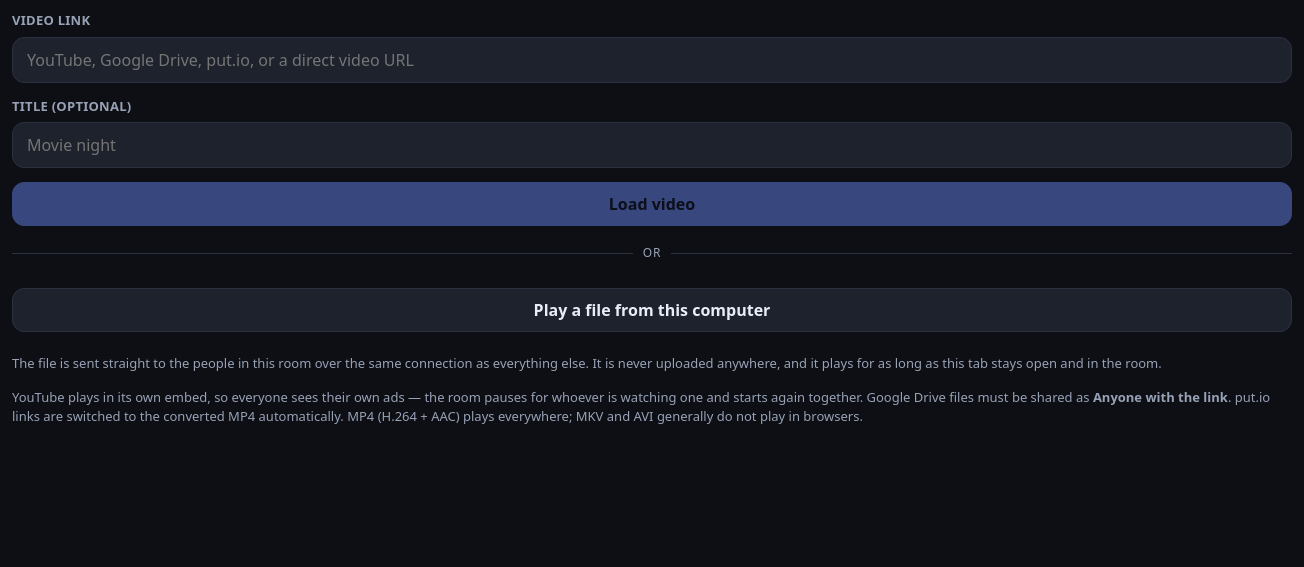
Scenario: MediaPicker › blocks a link that is not shared publicly and says how to fix it
This screenshot has width=1304, height=567.
Type "https://drive.google.com/file/d/1A2b3C4d5E6f7G8h9I0jKlMnOpQrStUv/view" into the field labelled "Video link" at (652, 60), box [12,36,1292,82]
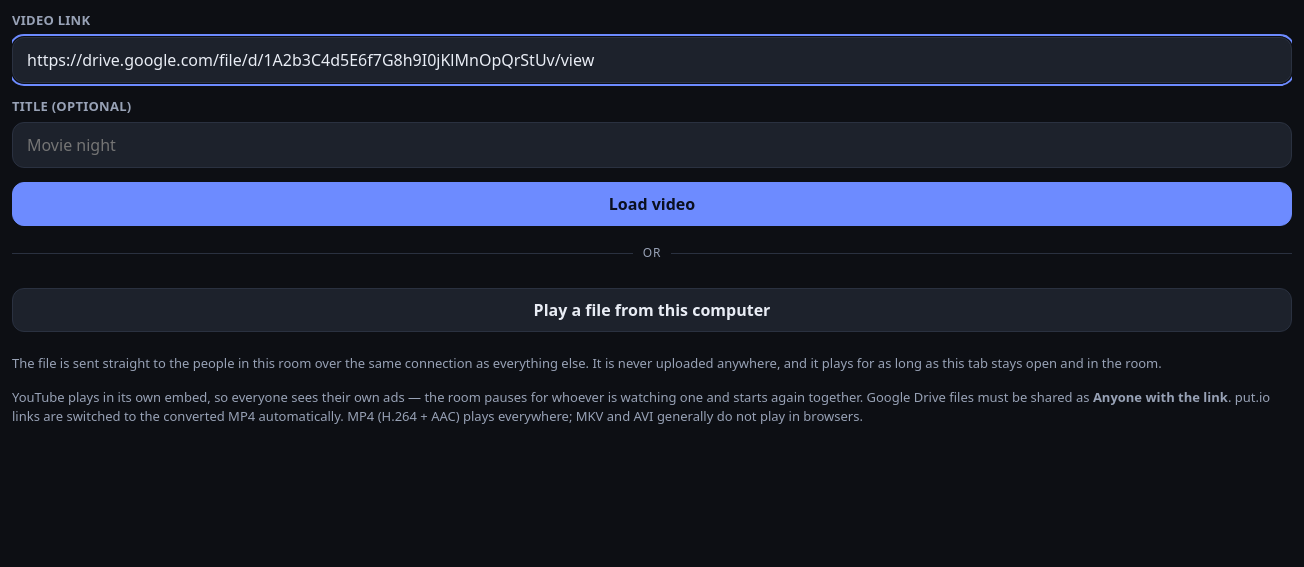
Click the button "Load video" at (652, 204), box [12,182,1292,226]
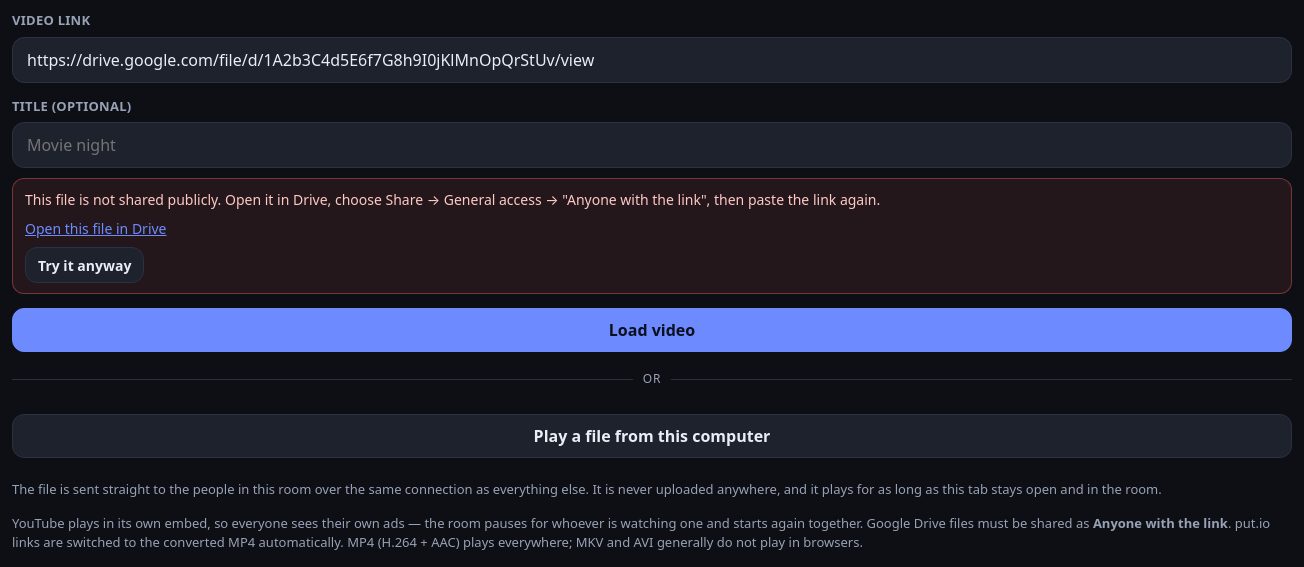
Now the message shows "not shared publicly", box [25,190,880,209]
Now the message shows "Anyone with the link", box [25,190,880,209]
